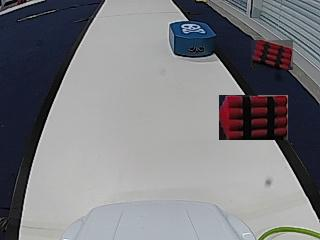danger: (181, 22, 205, 34)
